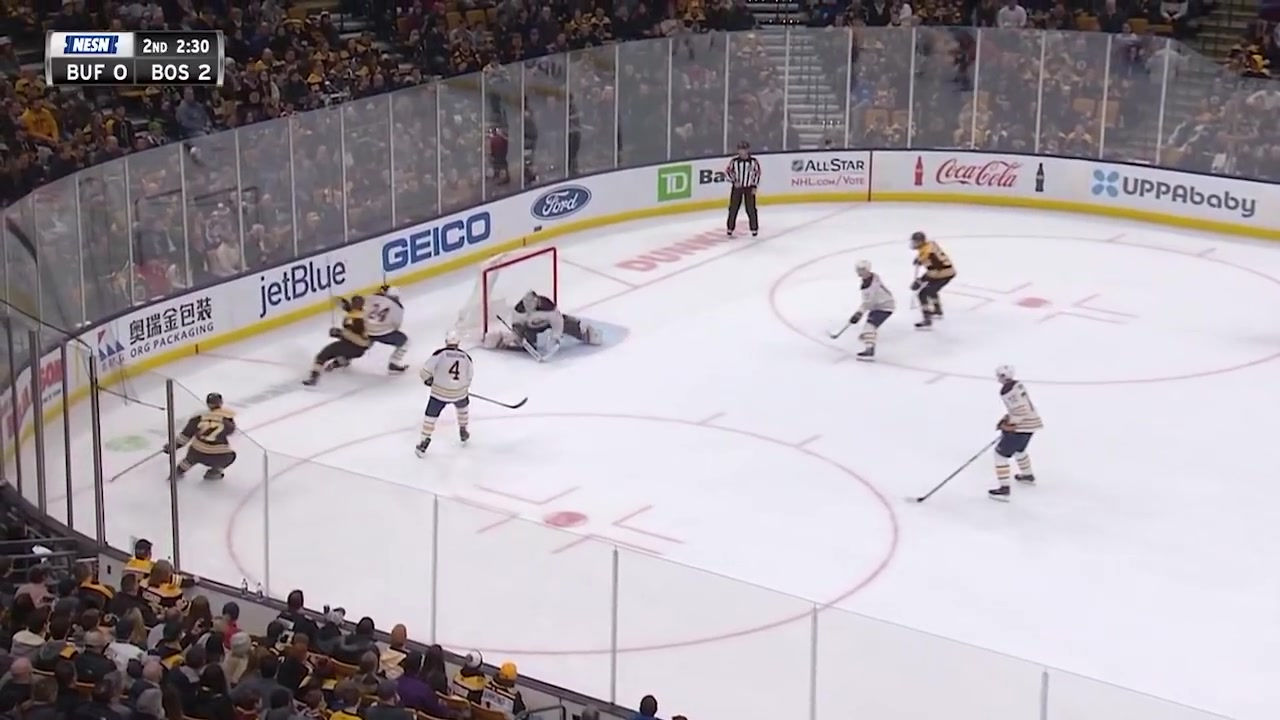Geico: (380, 214, 502, 268)
